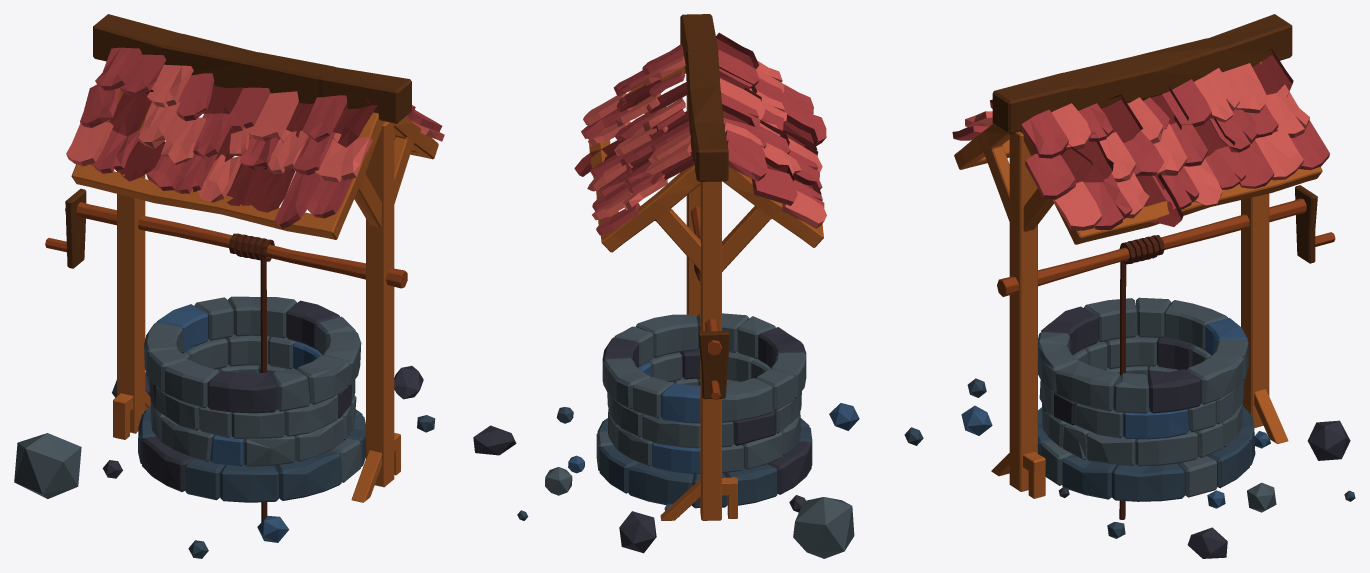
Rendered from sumur.obj.
3 renders of one model, left to right at view 1: azimuth 30°, elevation 25°; view 2: azimuth 150°, elevation 25°; view 3: azimuth 270°, elevation 25°, orthographic. The views are drawn at different scales.
Visible parts, largest first — view 1: Well; view 2: Well; view 3: Well.
Part boxes in pixels (box(x1,y1,x2,y2)): Well: box(14, 14, 444, 558); Well: box(473, 14, 923, 558); Well: box(952, 14, 1355, 558).
Bounding box in the file's own units: 2.15 × 2.41 × 1.91.
